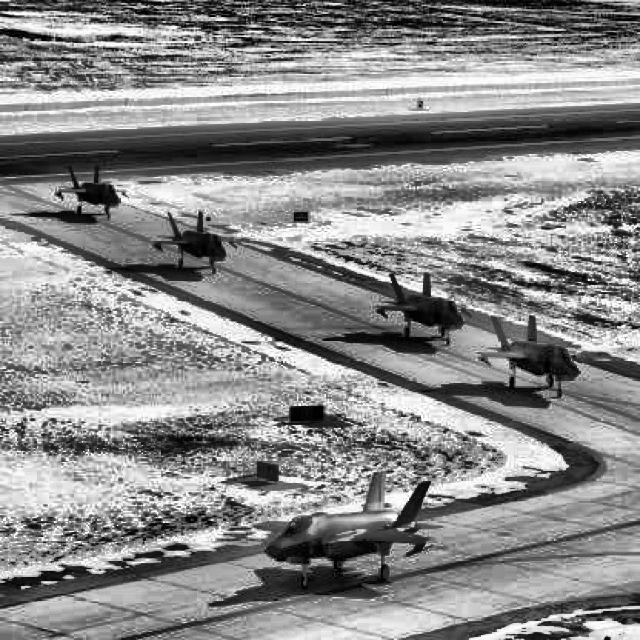F35: (263, 470, 446, 588), (476, 314, 582, 398), (375, 273, 473, 345), (152, 210, 238, 275), (54, 165, 129, 220)
